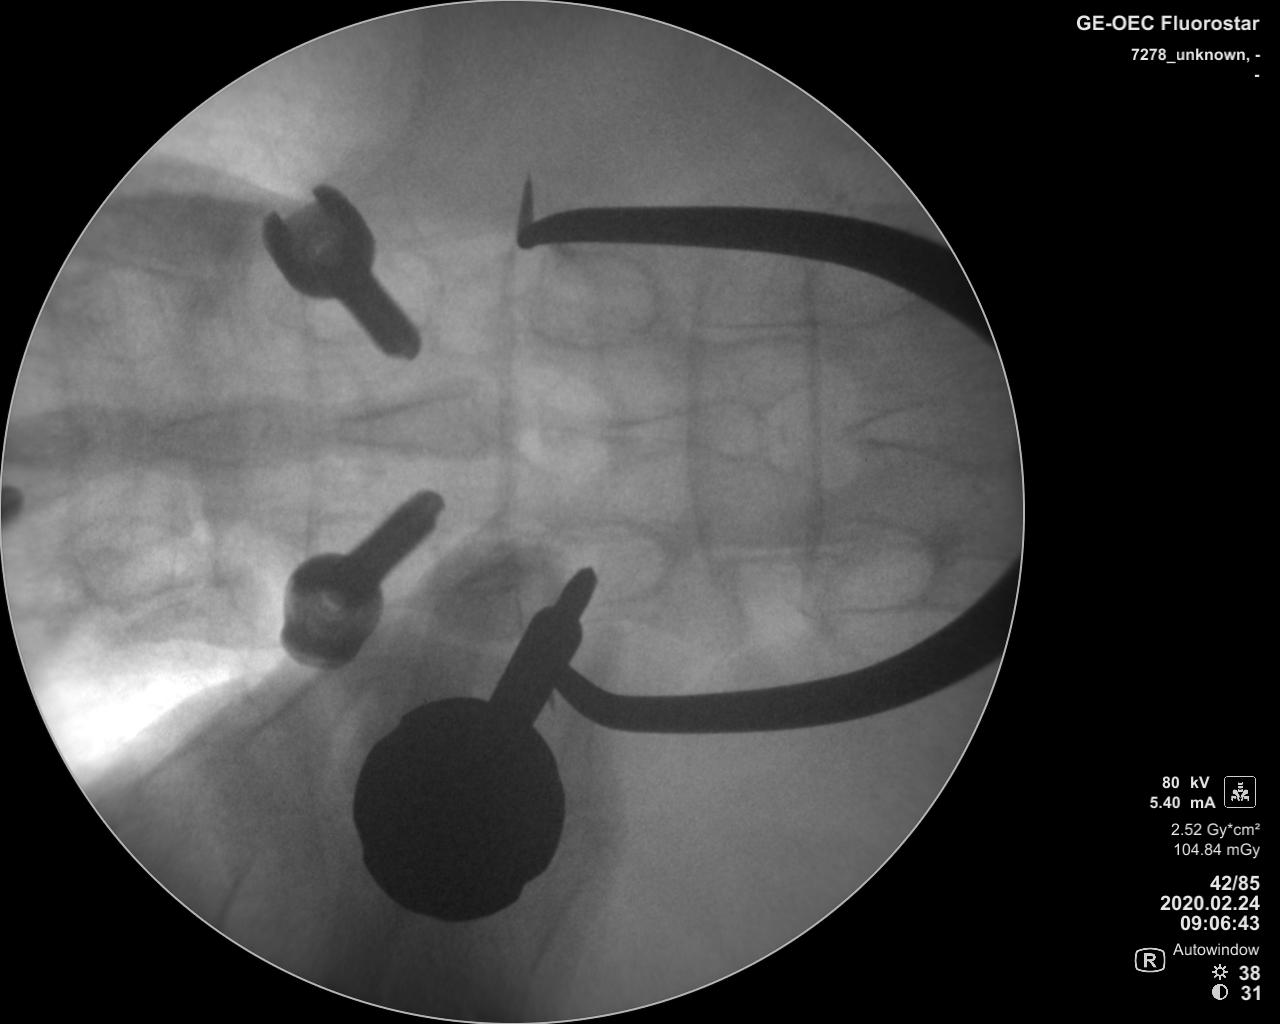eyes: (286, 250, 442, 348), (68, 263, 197, 362), (814, 517, 941, 616), (530, 254, 658, 348), (64, 516, 208, 600), (306, 513, 442, 601), (544, 516, 675, 606)
line: (489, 249, 523, 581), (682, 258, 716, 575), (795, 262, 828, 539), (292, 298, 323, 552)
nose: (847, 392, 1013, 472), (594, 397, 773, 465), (332, 391, 501, 460), (152, 401, 300, 473), (6, 402, 145, 476)
